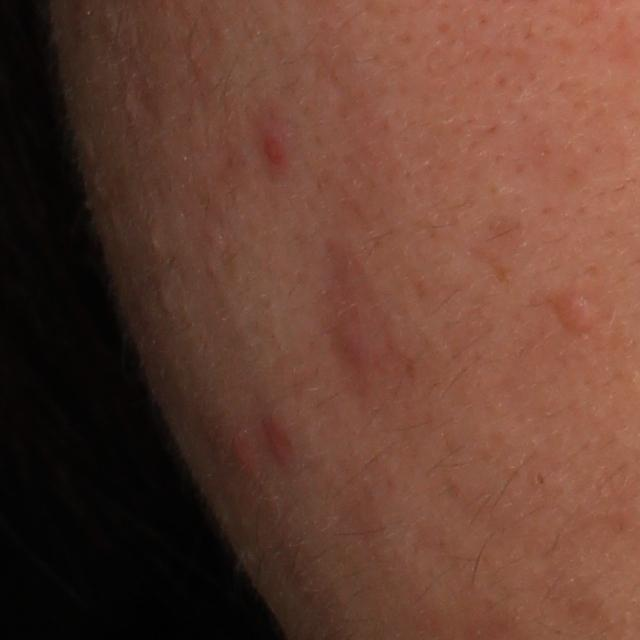comedo: (532, 470, 546, 490)
papule: (339, 321, 381, 373), (553, 289, 599, 334), (261, 419, 295, 467), (230, 433, 261, 483), (260, 135, 291, 171)
